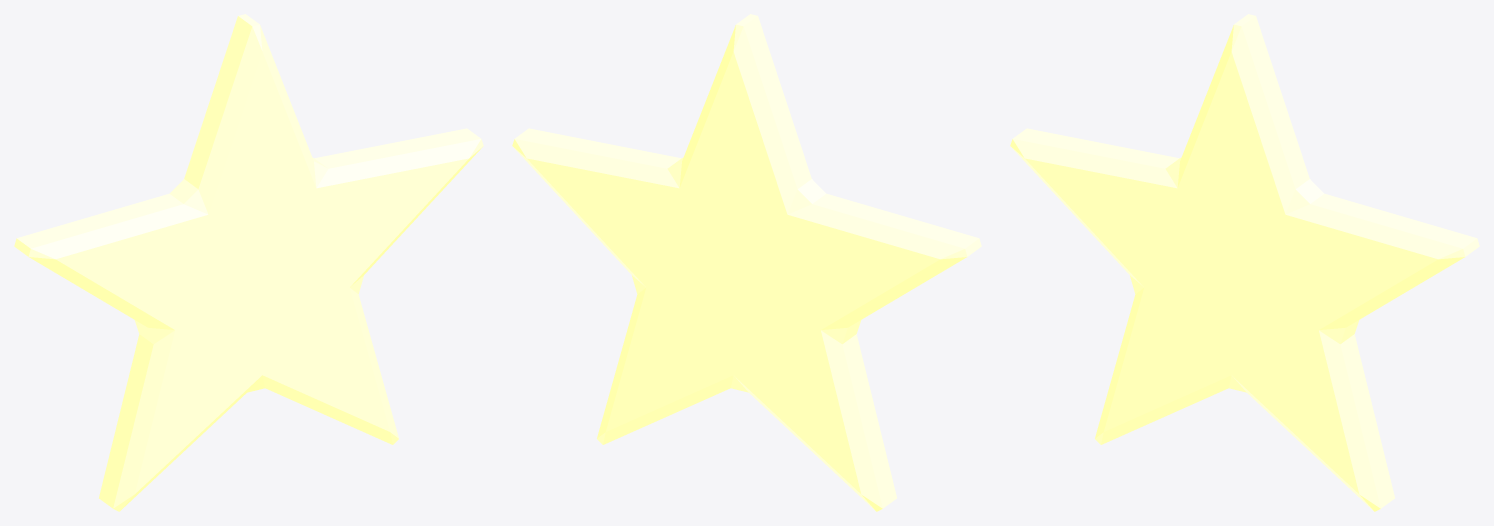
The model's file is fx_ally_star.glb.
3 views of the same model, side by side, from view 1: azimuth 30°, elevation 25°; view 2: azimuth 150°, elevation 25°; view 3: azimuth 330°, elevation 25° (orthographic).
Parts seen in each view (by area): view 1: fx_ally_star; view 2: fx_ally_star; view 3: fx_ally_star.
Part boxes in pixels (left/top/right/bottom): fx_ally_star: left=14, top=14, right=483, bottom=511; fx_ally_star: left=512, top=14, right=981, bottom=511; fx_ally_star: left=1010, top=14, right=1479, bottom=511.
Size of the model in its own units: 0.5868 by 0.5581 by 0.06.
